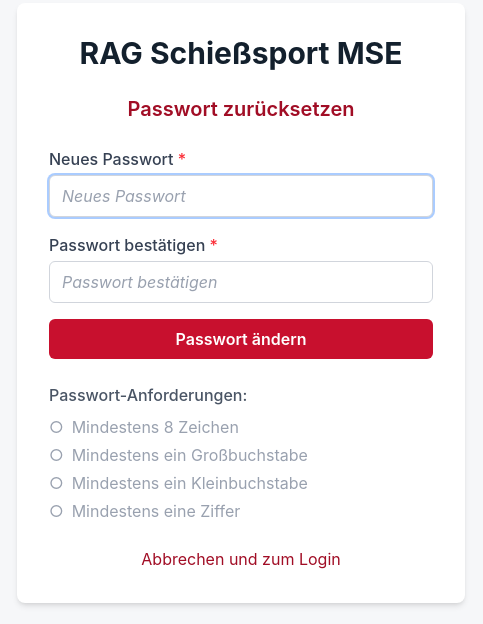
Scenario: ResetPasswordPage › Form Submission › should display success message after successful reset
In the password field labelled "Neues Passwort *": [241, 196] box [49,175,433,217], type "Password1"
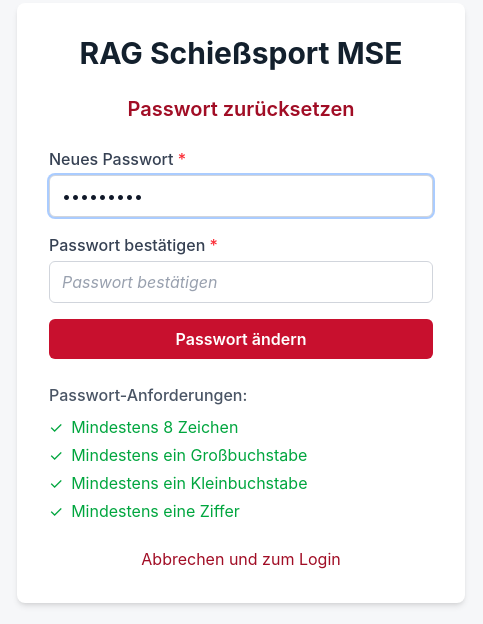
In the password field labelled "Passwort bestätigen *": [241, 282] box [49,261,433,303], type "Password1"
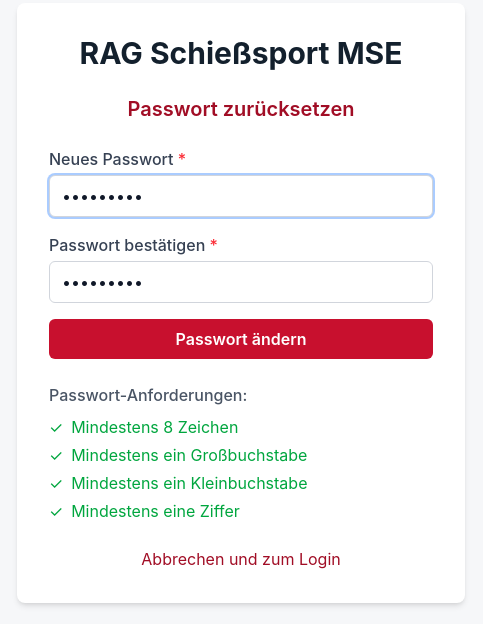
Click the button "Passwort ändern": [241, 339] box [49,319,433,359]
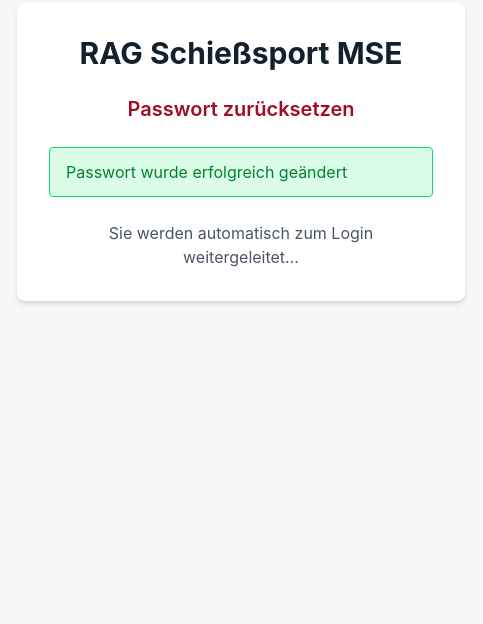
Result: the text "Passwort wurde erfolgreich geändert" is shown at [49,147,433,197]
